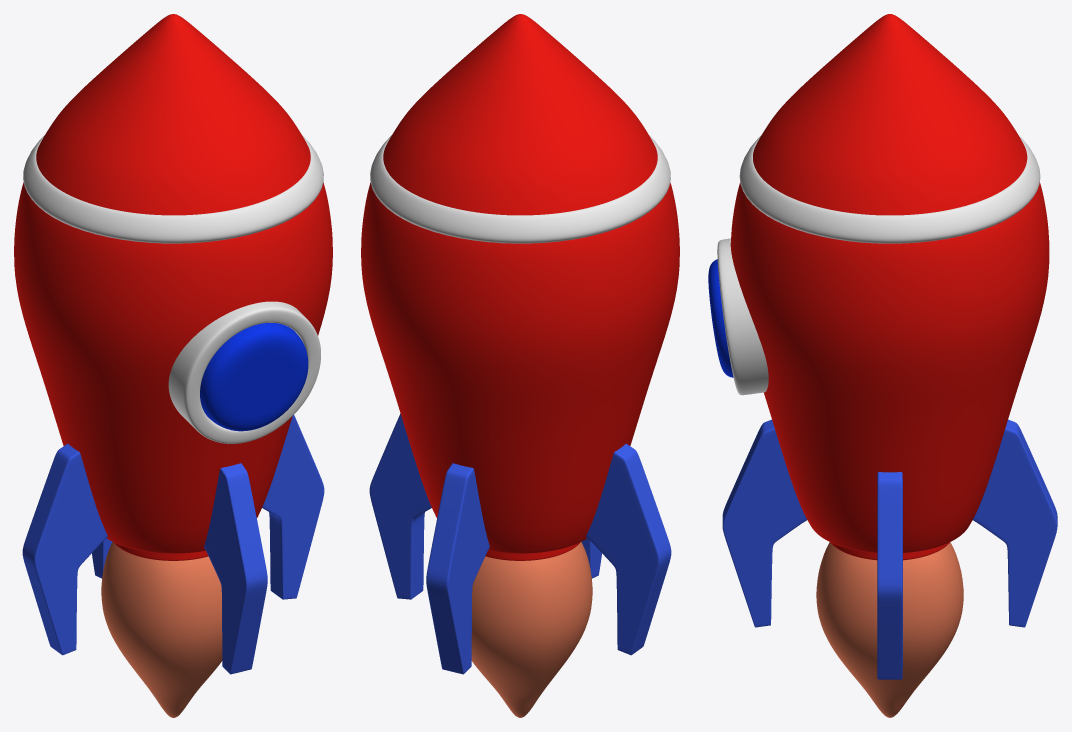
The model's file is rocket.glb.
3 views of the same model, side by side, from view 1: azimuth 30°, elevation 25°; view 2: azimuth 150°, elevation 25°; view 3: azimuth 270°, elevation 25° (orthographic).
Parts seen in each view (by area): view 1: Cylinder.009; view 2: Cylinder.009; view 3: Cylinder.009.
Boxes of the visible parts, x1,y1,x2,y2 form: Cylinder.009: (14,14,332,717); Cylinder.009: (361,14,679,717); Cylinder.009: (708,14,1057,717).
Bounding box in the file's own units: 0.8393 × 1.94 × 0.8746.
